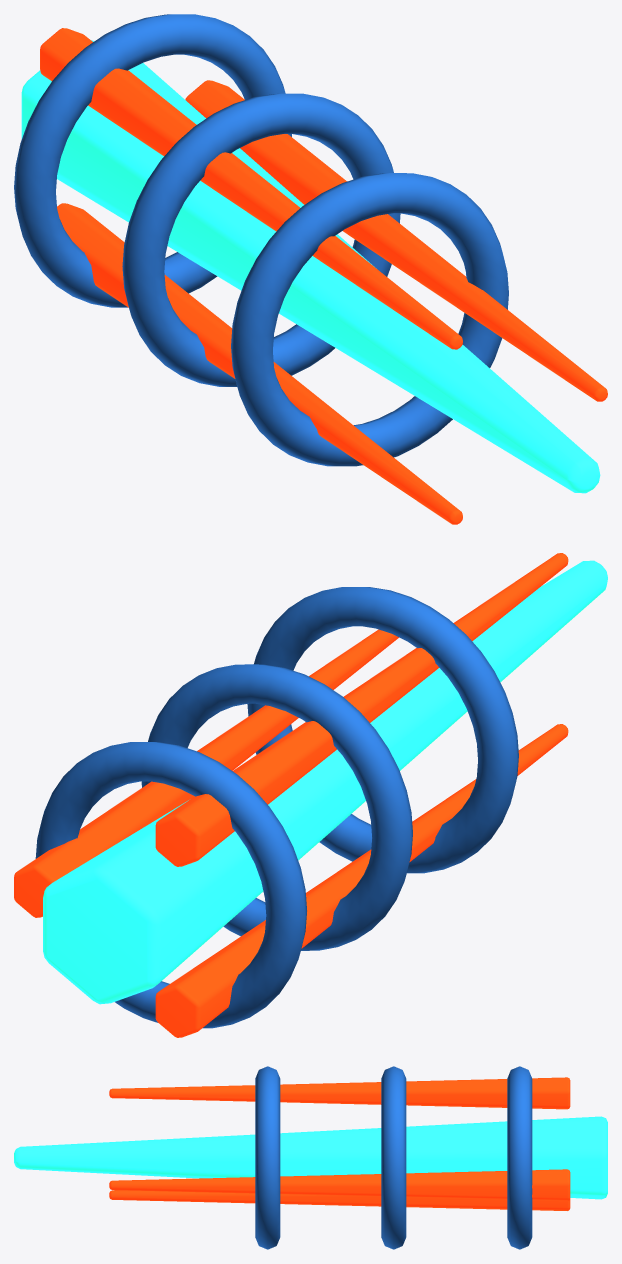
The model's file is Laser_Special.fbx.
The picture shows the model from 3 angles, top to bottom: view 1: azimuth 30°, elevation 25°; view 2: azimuth 150°, elevation 25°; view 3: azimuth 270°, elevation 25°; orthographic projection. The views are drawn at different scales.
Parts seen in each view (by area): view 1: Energy lance.001, Pulse ring.005, Pulse ring.004, Pulse ring.003, Helical pulse.001, Helical pulse, Helical pulse.002; view 2: Energy lance.001, Pulse ring.005, Pulse ring.003, Pulse ring.004, Helical pulse.001, Helical pulse, Helical pulse.002; view 3: Energy lance.001, Helical pulse, Helical pulse.001, Pulse ring.004, Pulse ring.005, Pulse ring.003, Helical pulse.002.
Part boxes in pixels (x1,y1,x2,y2): Energy lance.001: (21,40,600,493); Pulse ring.005: (231,173,508,466); Pulse ring.004: (122,93,400,386); Pulse ring.003: (14,14,291,307); Helical pulse.001: (40,28,462,349); Helical pulse: (185,80,607,401); Helical pulse.002: (57,203,462,524); Energy lance.001: (43,560,607,1004); Pulse ring.005: (247,587,518,873); Pulse ring.003: (35,742,306,1028); Pulse ring.004: (141,664,412,950); Helical pulse.001: (155,553,568,866); Helical pulse: (14,629,398,917); Helical pulse.002: (155,724,568,1037); Energy lance.001: (14,1116,607,1199); Helical pulse: (109,1169,570,1201); Helical pulse.001: (109,1077,570,1109); Pulse ring.004: (381,1066,406,1249); Pulse ring.005: (255,1066,280,1249); Pulse ring.003: (507,1066,532,1249); Helical pulse.002: (109,1190,570,1210).
Bounding box in the file's own units: 51 × 51 × 165.
